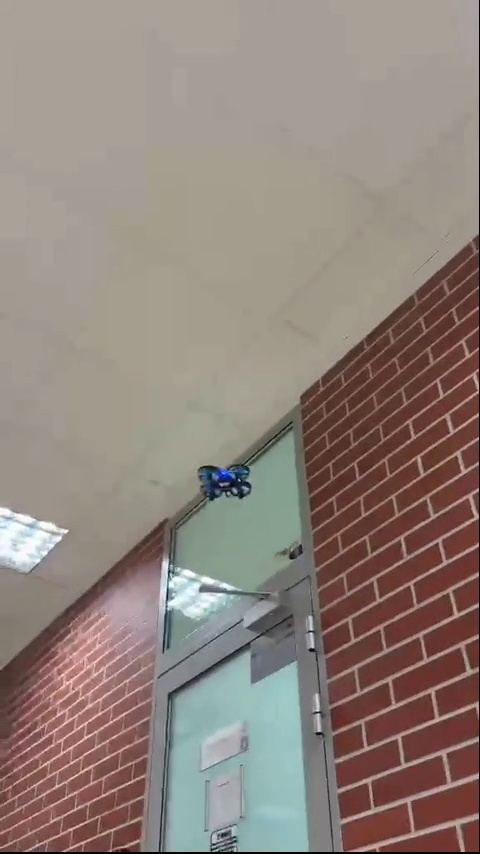drone: (194, 461, 253, 493)
